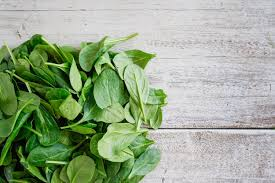spinach: (6, 59, 132, 180)
